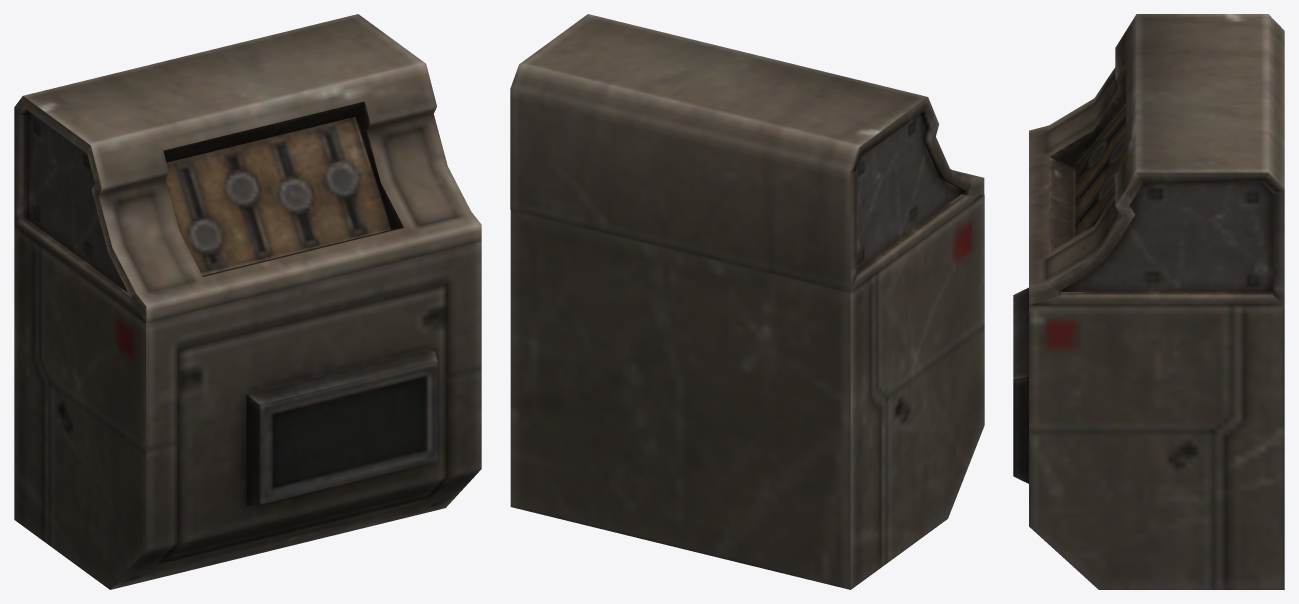
Rendered from computer_parts_sliders.dae.
3 views of the same model, side by side, from view 1: azimuth 30°, elevation 25°; view 2: azimuth 150°, elevation 25°; view 3: azimuth 270°, elevation 25° (orthographic). The views are drawn at different scales.
Visible parts, largest first — view 1: computer_parts_sliders; view 2: computer_parts_sliders; view 3: computer_parts_sliders.
Part boxes in pixels (x1,y1,x2,y2): computer_parts_sliders: (14,14,481,589); computer_parts_sliders: (510,14,984,589); computer_parts_sliders: (1013,14,1284,589).
Size of the model in its own units: 0.3364 by 0.4121 by 0.2431.
